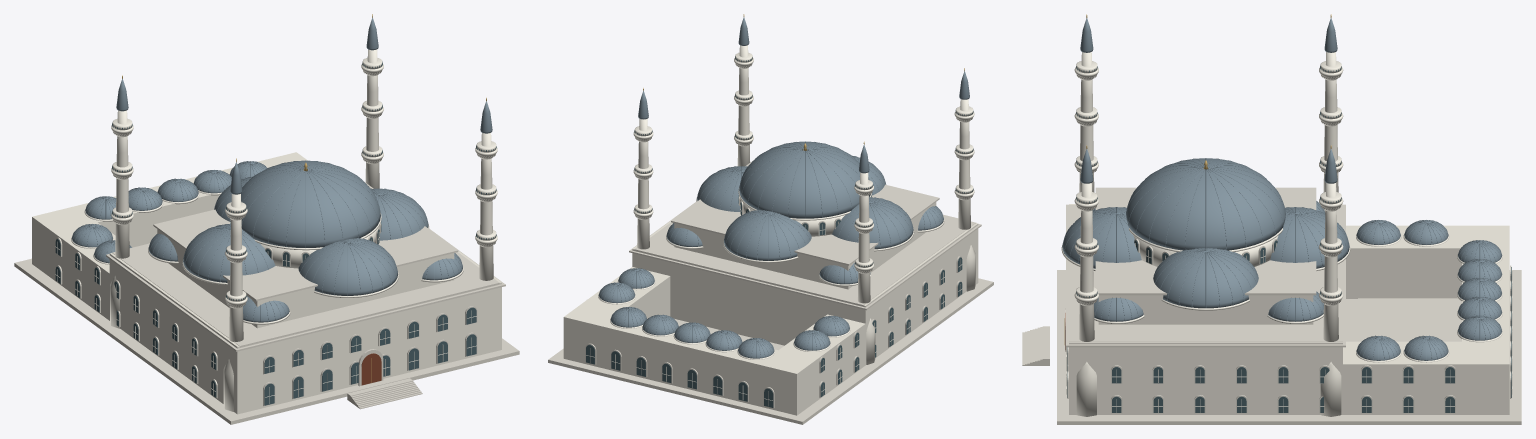
Rendered from namazgah-near.glb.
3 views of the same model, side by side, from view 1: azimuth 30°, elevation 25°; view 2: azimuth 150°, elevation 25°; view 3: azimuth 270°, elevation 25° (orthographic). The views are drawn at different scales.
Visible parts, largest first — view 1: namazgah-near-marble, namazgah-near-lead, namazgah-near-stone, namazgah-near-glass, namazgah-near-wood; view 2: namazgah-near-marble, namazgah-near-lead, namazgah-near-stone, namazgah-near-glass; view 3: namazgah-near-marble, namazgah-near-lead, namazgah-near-stone, namazgah-near-glass.
Boxes of the visible parts, left/top/right/bottom form: namazgah-near-marble: left=32, top=49, right=501, bottom=414; namazgah-near-lead: left=71, top=18, right=492, bottom=322; namazgah-near-stone: left=14, top=182, right=519, bottom=424; namazgah-near-glass: left=55, top=61, right=496, bottom=405; namazgah-near-wood: left=361, top=353, right=381, bottom=385; namazgah-near-marble: left=563, top=45, right=978, bottom=415; namazgah-near-lead: left=598, top=17, right=969, bottom=358; namazgah-near-stone: left=548, top=160, right=993, bottom=424; namazgah-near-glass: left=586, top=56, right=973, bottom=407; namazgah-near-marble: left=1061, top=52, right=1512, bottom=416; namazgah-near-lead: left=1062, top=18, right=1502, bottom=360; namazgah-near-stone: left=1022, top=187, right=1521, bottom=424; namazgah-near-glass: left=1067, top=66, right=1511, bottom=412.
Bounding box in the file's own units: 60 × 50 × 83.84.
